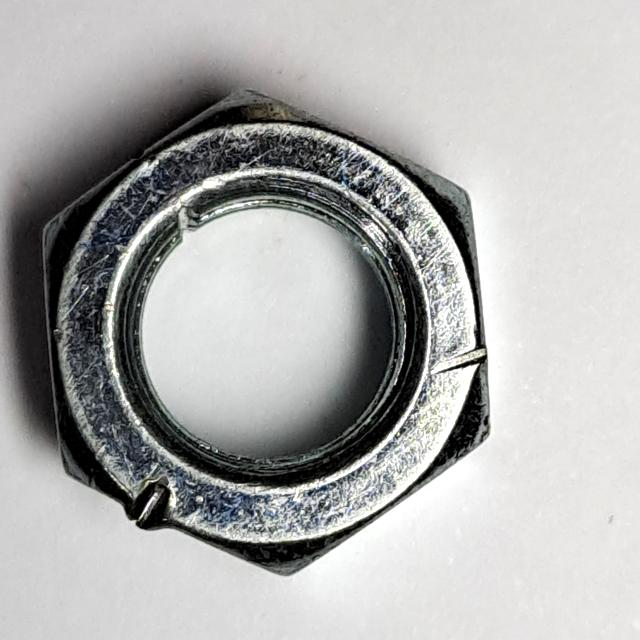Scratches: (36, 70, 508, 590)
